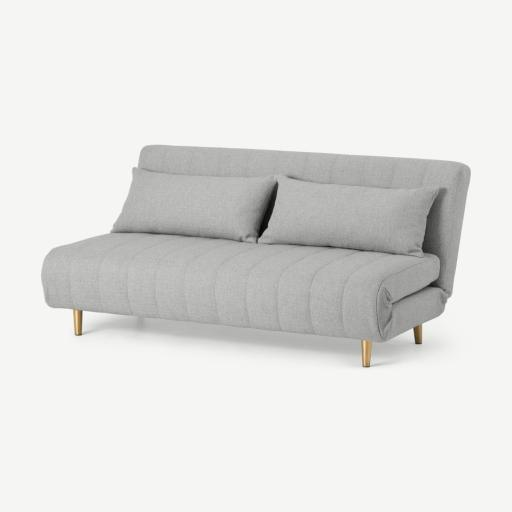back_cushion: (114, 145, 469, 293)
legs: (362, 340, 372, 367), (73, 310, 82, 335), (414, 325, 421, 344)
seat_cushion: (42, 233, 446, 342)
two-seater: (0, 0, 511, 512)
